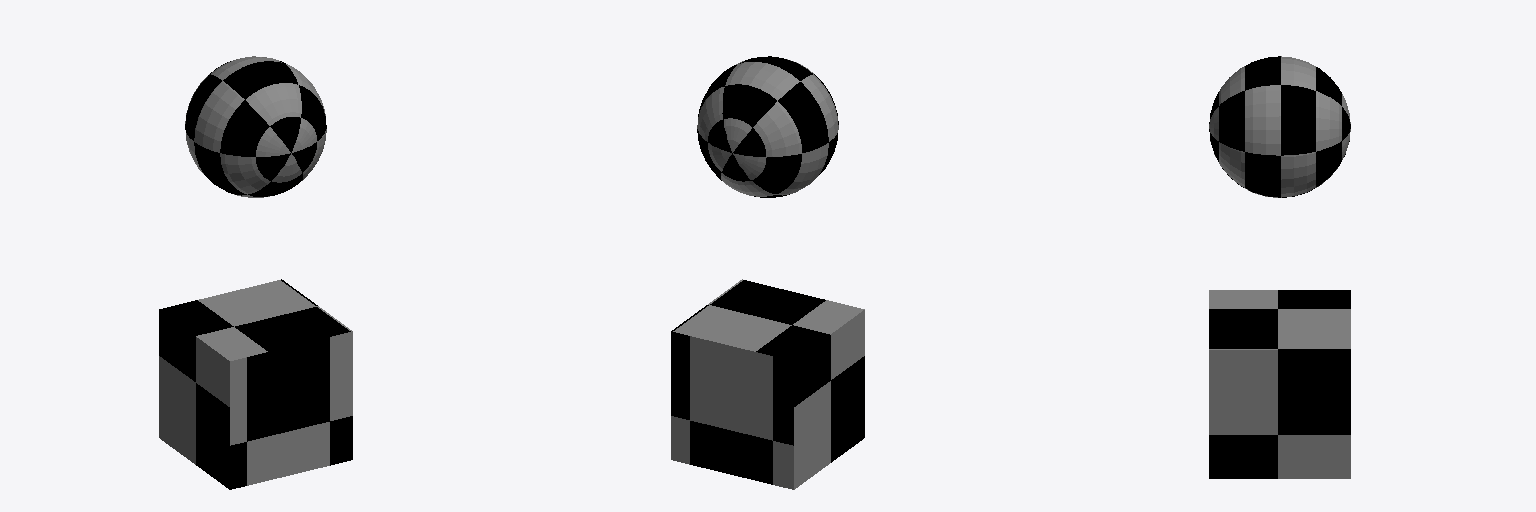
The picture shows the model from 3 angles: view 1: azimuth 30°, elevation 25°; view 2: azimuth 150°, elevation 25°; view 3: azimuth 270°, elevation 25°; orthographic projection.
Visible parts, largest first — view 1: Cube_Cube.001, Sphere; view 2: Cube_Cube.001, Sphere; view 3: Cube_Cube.001, Sphere.
Boxes of the visible parts, x1=… form: Cube_Cube.001: x1=159, y1=279, x2=352, y2=489; Sphere: x1=185, y1=56, x2=326, y2=197; Cube_Cube.001: x1=671, y1=279, x2=864, y2=489; Sphere: x1=697, y1=56, x2=838, y2=197; Cube_Cube.001: x1=1209, y1=290, x2=1350, y2=478; Sphere: x1=1209, y1=56, x2=1350, y2=197.
Bounding box in the file's own units: 2 × 6 × 2.
1 materials, 1 textured.